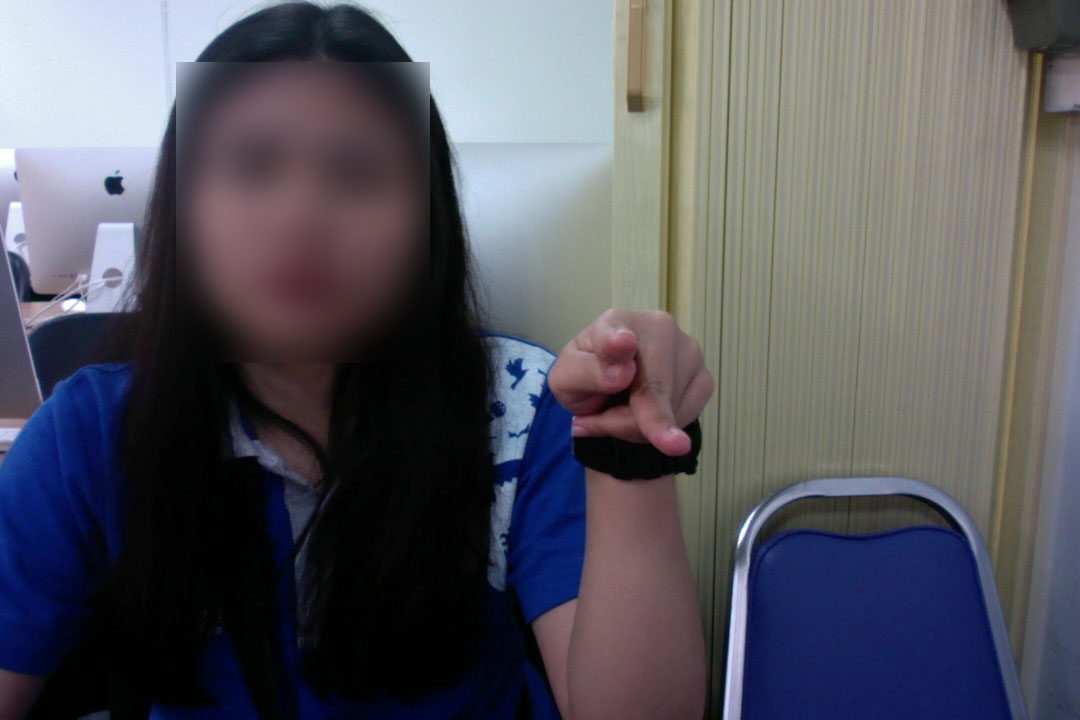por: (540, 289, 728, 478)
